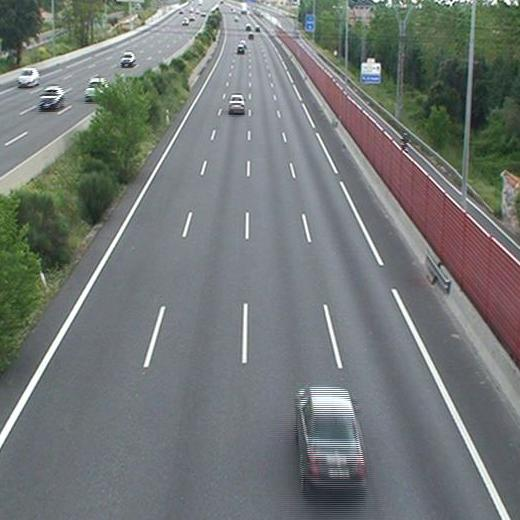car: (296, 387, 365, 488), (229, 95, 245, 113), (237, 44, 245, 55)
